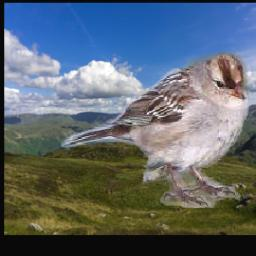Sparrow: (61, 52, 254, 208)
